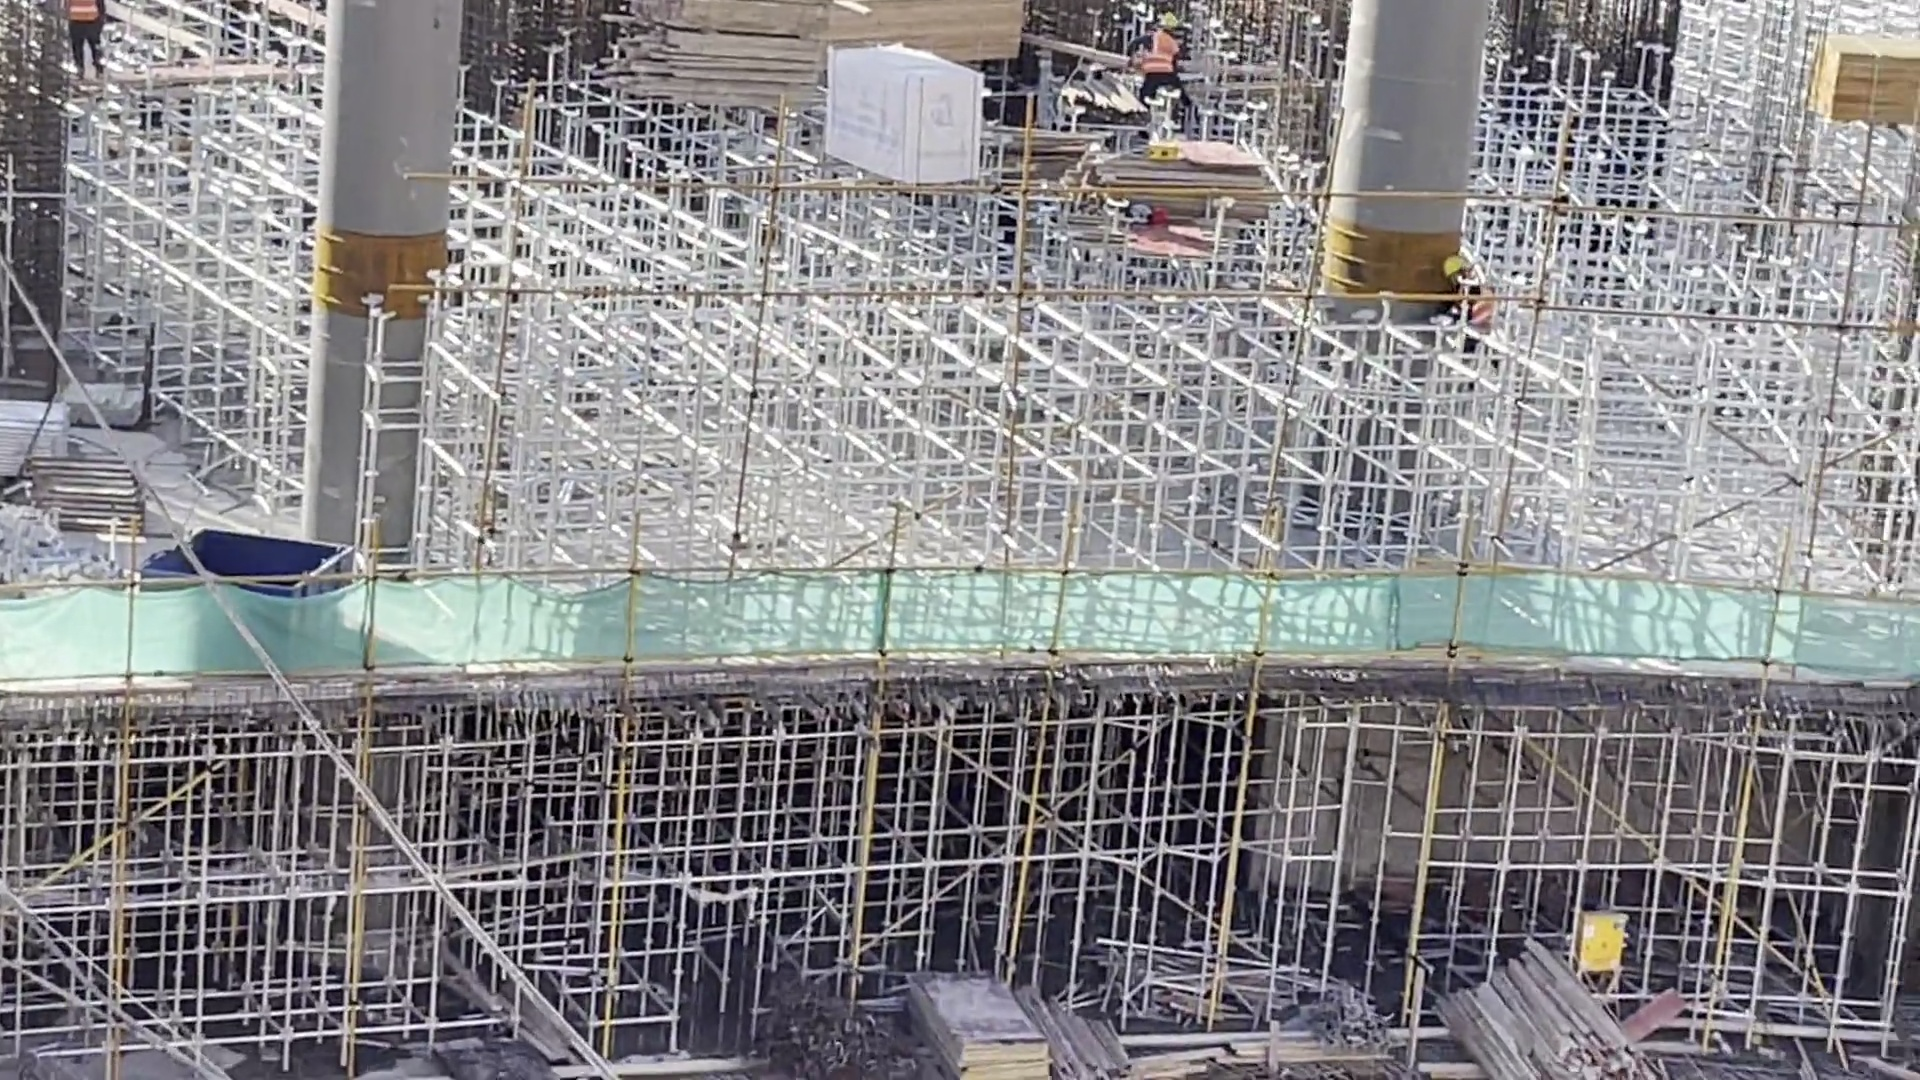board: (1072, 134, 1283, 233), (914, 961, 1054, 1080)
ebox: (1578, 902, 1631, 992)
helmet: (1154, 11, 1182, 28), (1442, 256, 1465, 274)
hopper: (133, 524, 358, 597)
person: (1440, 252, 1497, 369), (1131, 10, 1195, 109), (68, 1, 115, 82)
vest: (1458, 284, 1495, 336), (1144, 30, 1178, 84), (67, 1, 99, 21)
wood: (1428, 937, 1644, 1080), (606, 1, 822, 124), (801, 1, 1038, 66), (1805, 28, 1920, 127)
